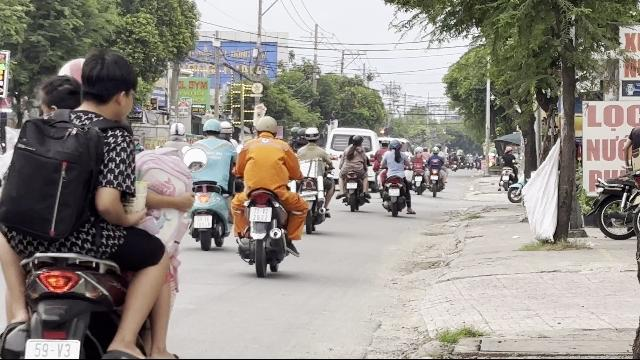helmet: (254, 115, 278, 136), (201, 118, 221, 138)
licenseplate: (250, 206, 272, 222), (194, 216, 212, 228)
motorcyclist: (0, 53, 198, 357), (232, 113, 308, 275), (182, 116, 238, 250)
nohelmet: (77, 52, 139, 120), (32, 72, 84, 120)
